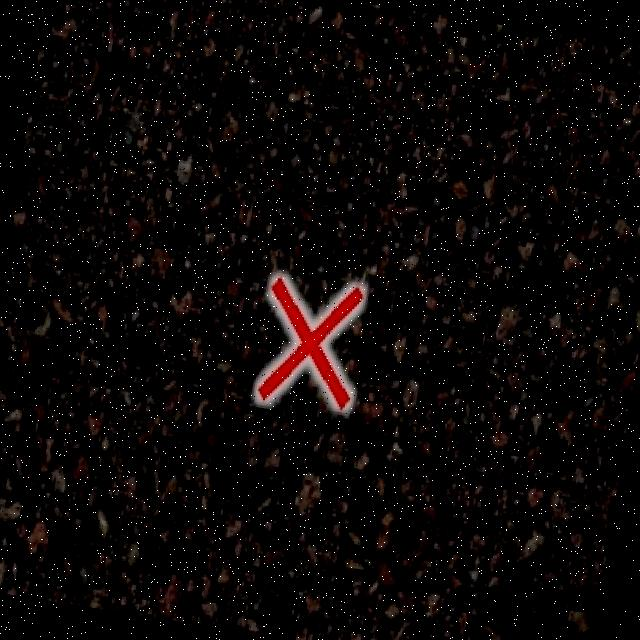x_marker: (255, 274, 366, 412)
